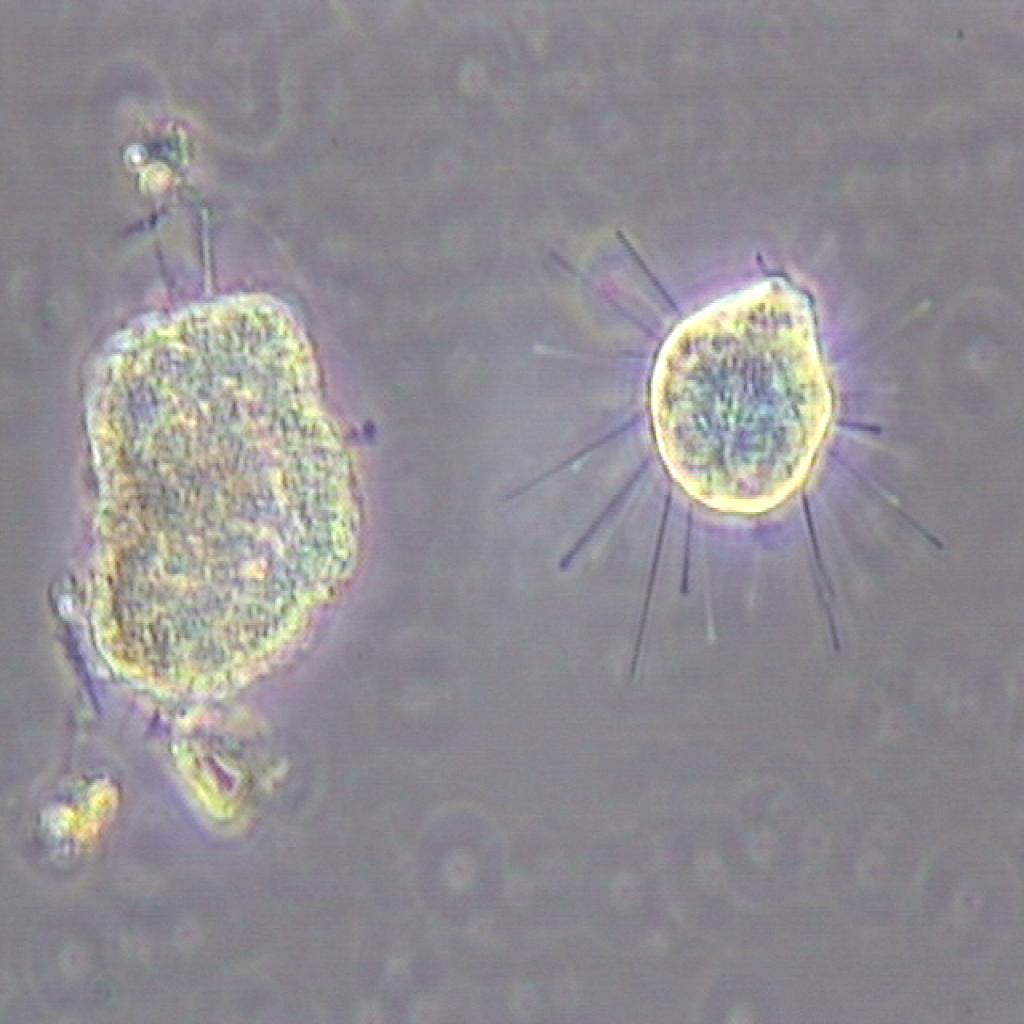Suctorida: (482, 172, 944, 692)
